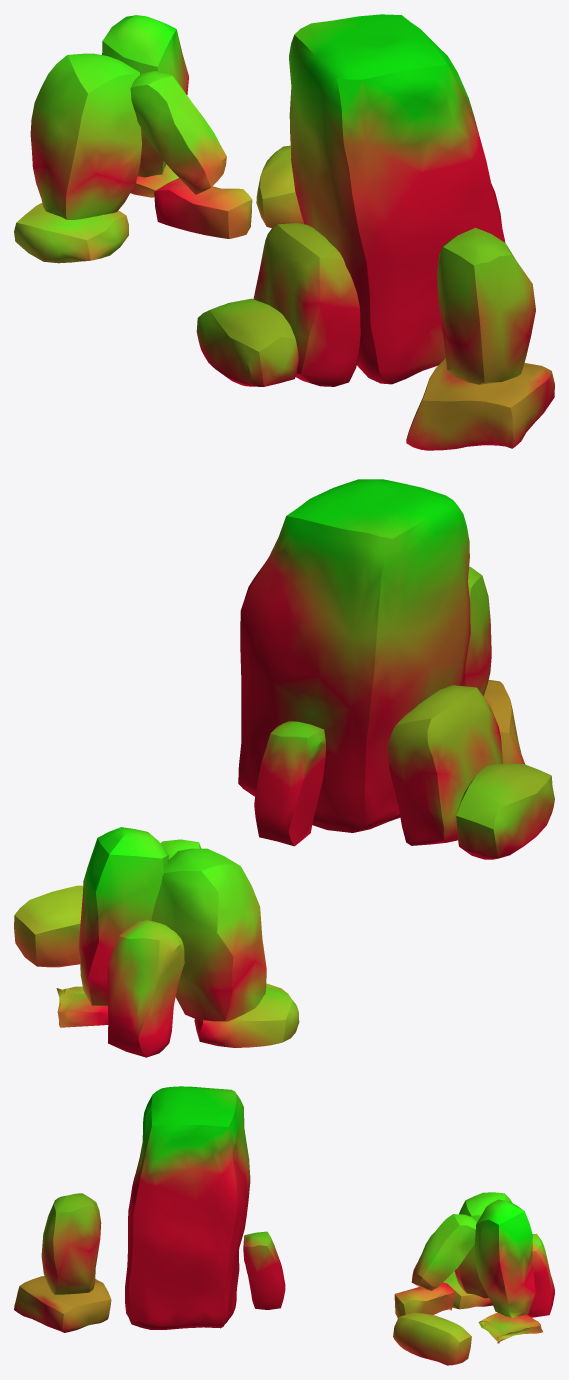
The model's file is Rocks.fbx.
3 views of the same model, one above another, from view 1: azimuth 30°, elevation 25°; view 2: azimuth 150°, elevation 25°; view 3: azimuth 270°, elevation 25° (orthographic). The views are drawn at different scales.
Parts seen in each view (by area): view 1: Rocks1, Rocks2; view 2: Rocks1, Rocks2; view 3: Rocks1, Rocks2.
Boxes of the visible parts, box(x1,y1,x2,y2) form: Rocks1: box(196, 14, 554, 450); Rocks2: box(14, 15, 304, 263); Rocks1: box(238, 479, 554, 859); Rocks2: box(14, 827, 299, 1057); Rocks1: box(14, 1086, 285, 1332); Rocks2: box(393, 1192, 554, 1365).
Size of the model in its own units: 925 by 1021 by 2174.
